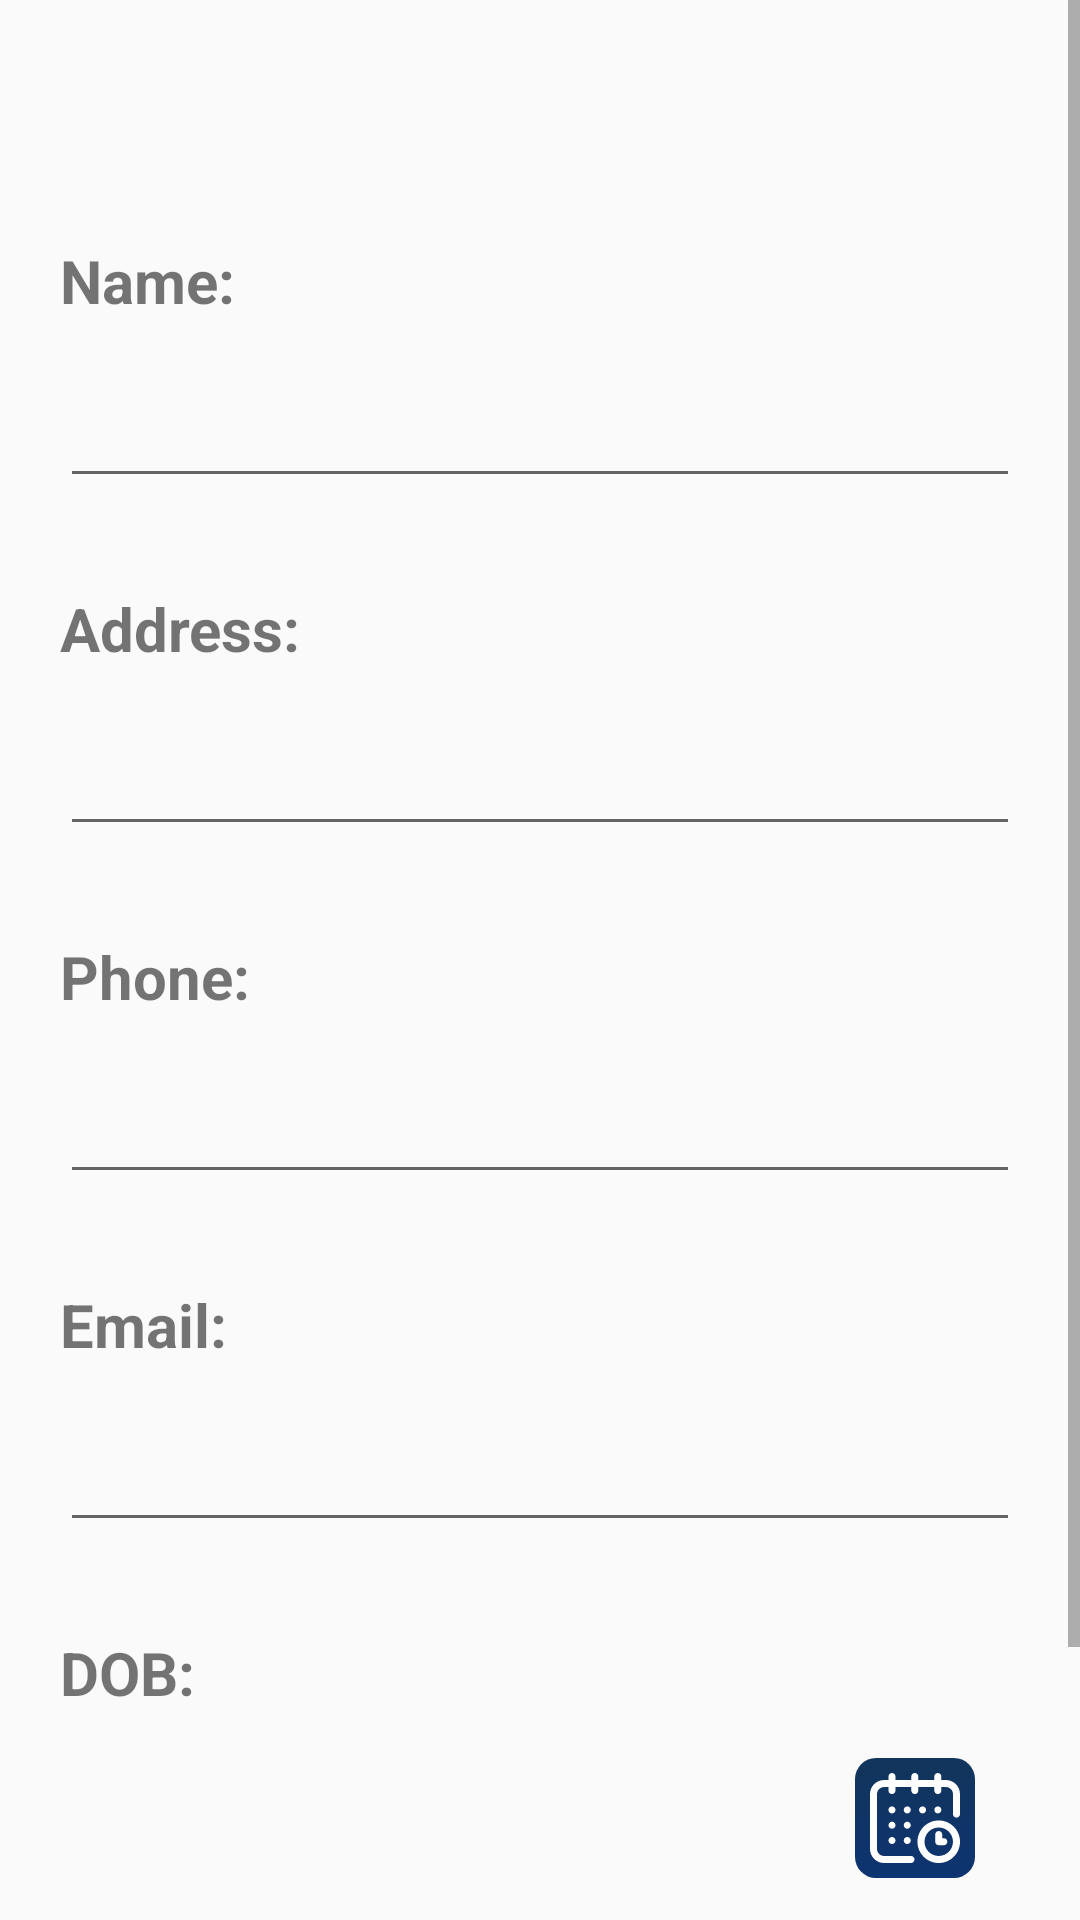

Icons on this 1080x1920 Android screen, each with the point to tap as point (x, y):
calendar: point (915, 1818)
